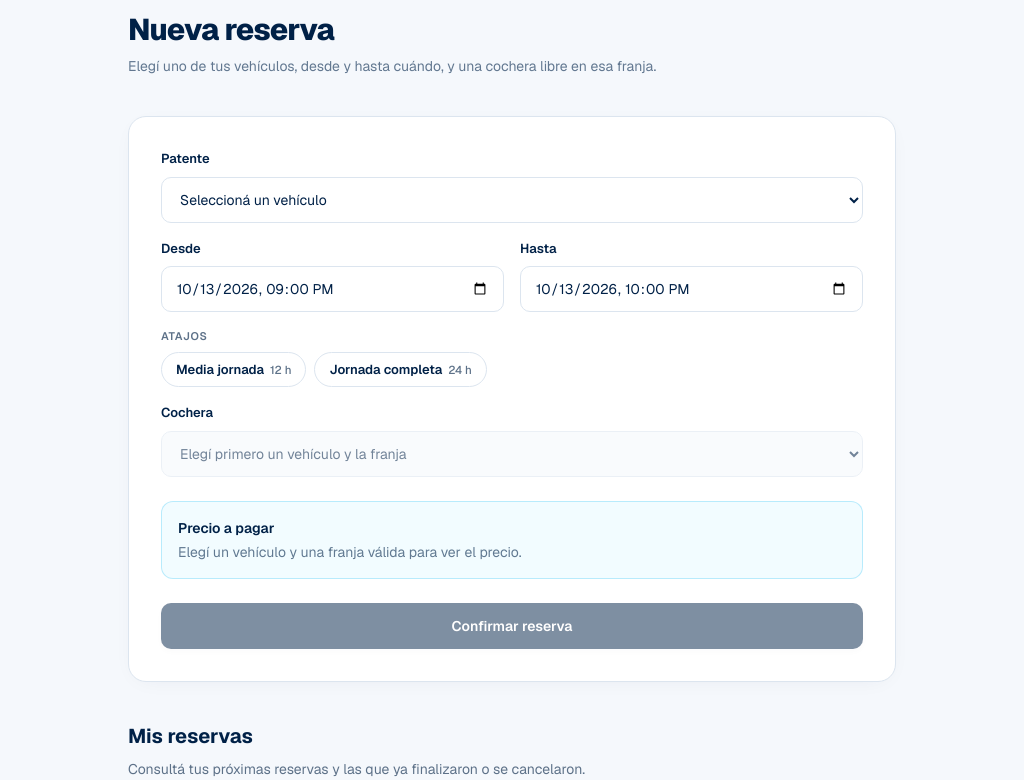
Test case: user cambia a tarifa Accesible al elegir esa cochera
Step 1. Select "ABC123 — AUTO" in the dropdown labelled "Patente" → [512, 200], box [161,176,863,222]
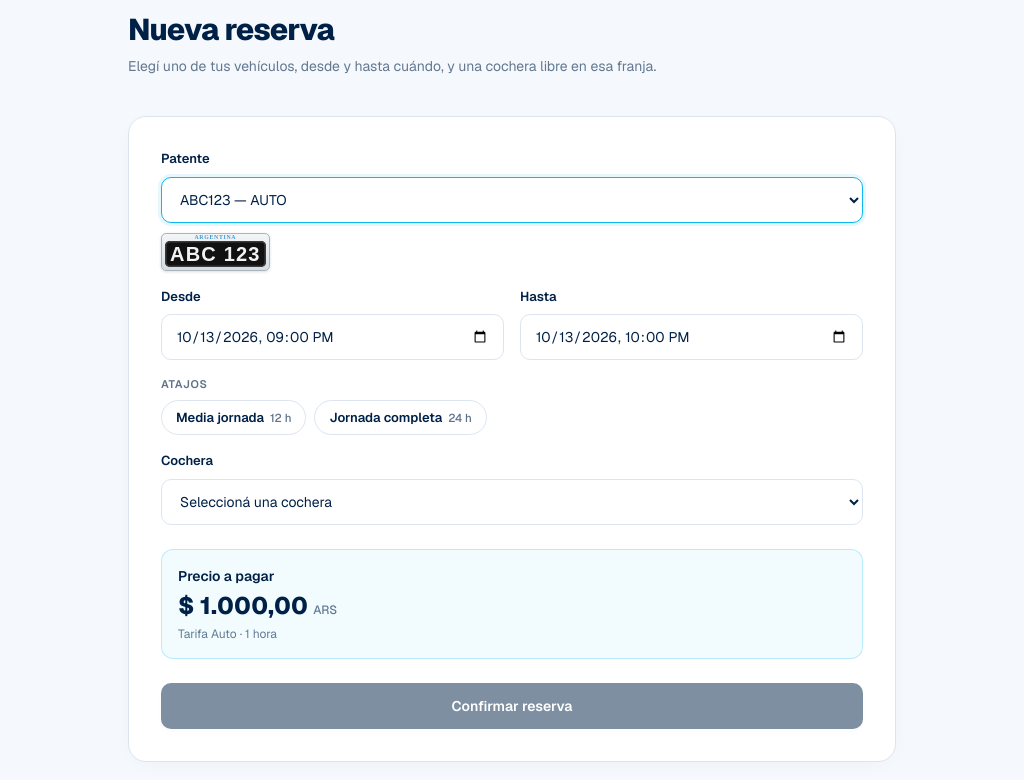
Step 2. Select "AC-01 — PB (ACCESIBLE)" in the dropdown labelled "Cochera" → [512, 502], box [161,479,863,525]
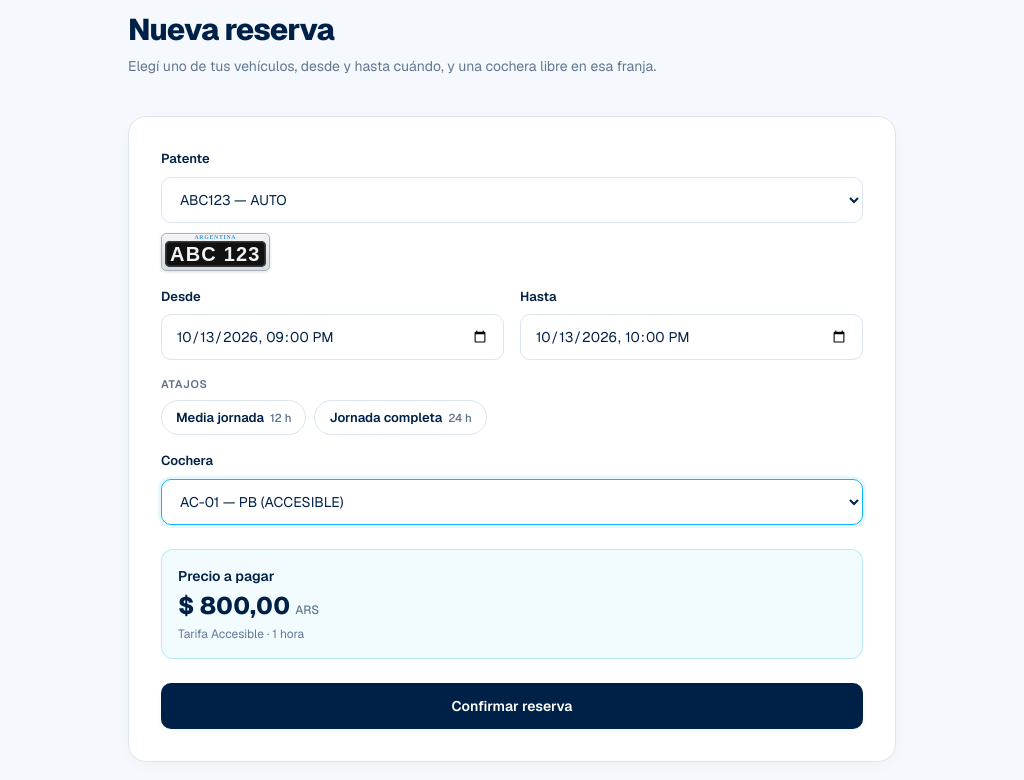
Expected: the text "$ 800,00 ARS" is shown, [178,590,319,621]
Expected: the text "Tarifa Accesible · 1 hora" is shown, [178,626,304,642]
